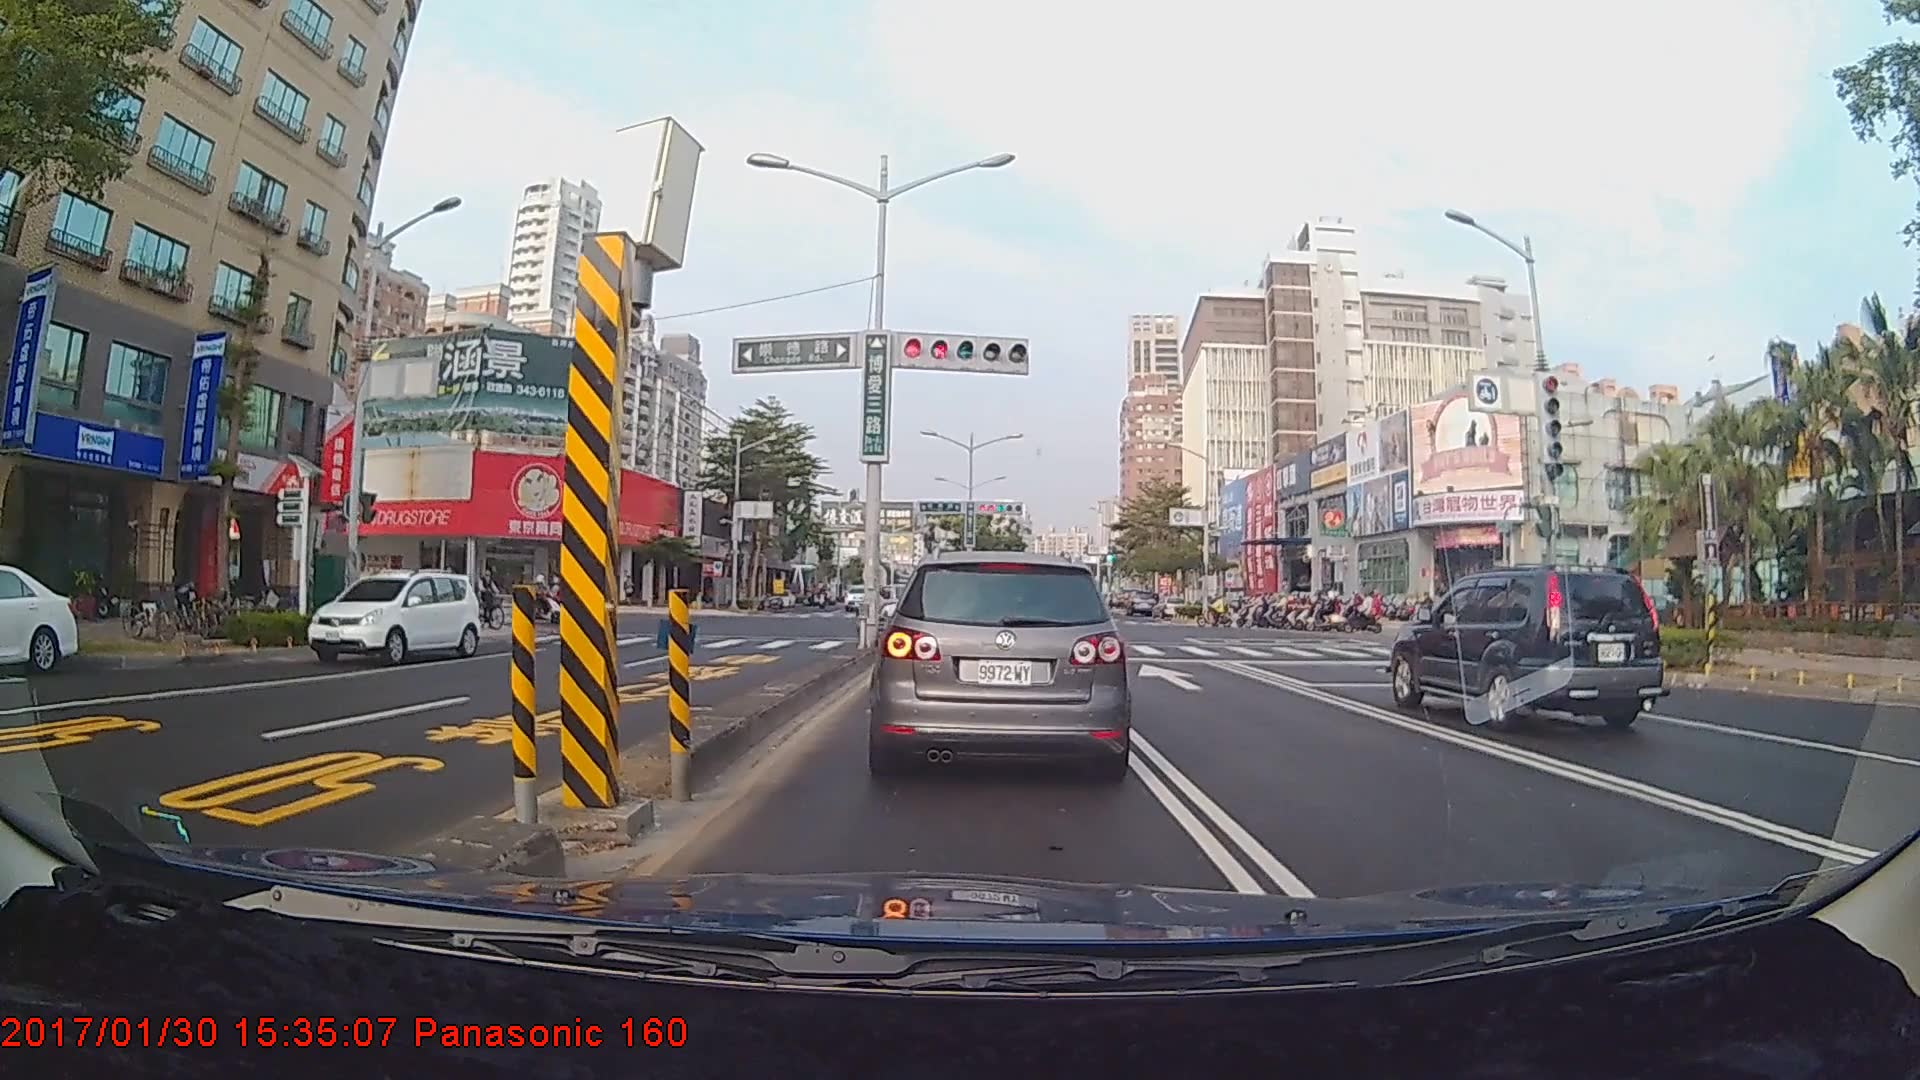rider: (476, 566, 511, 630)
vehicle: (865, 543, 1134, 778), (1389, 564, 1662, 733), (306, 569, 482, 666), (0, 561, 81, 675), (1126, 589, 1158, 617)
